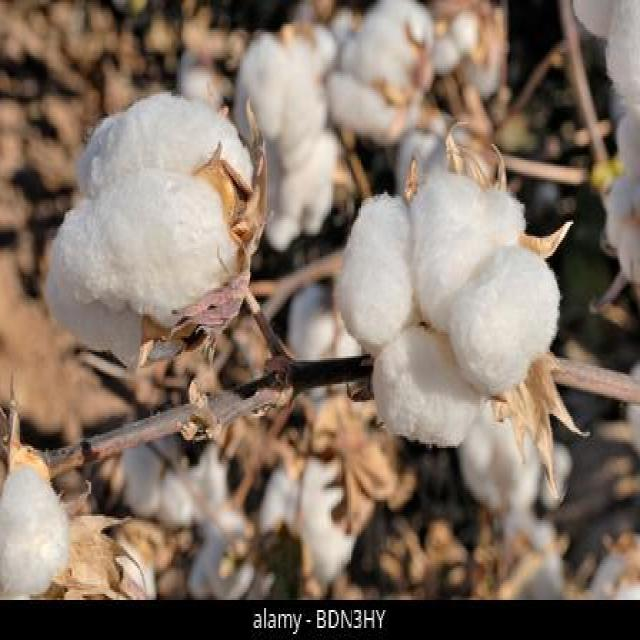Late_blight: (342, 146, 574, 431), (41, 90, 272, 364), (3, 428, 142, 596)
